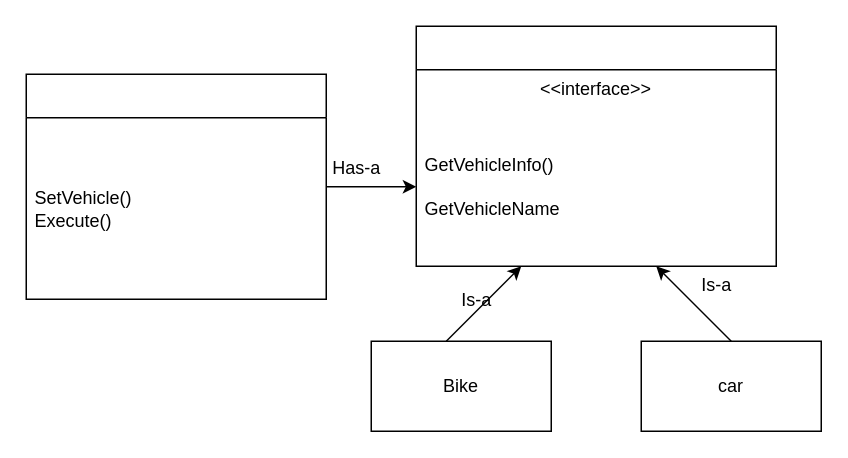
This 848x458 diagram has some shape labels left out. The shapes that lost their labels are listed below. From the top down, each one's box as (x1, y1, x2, y2) in pixels, then its label:
(415, 25, 776, 266): IVehicle
(25, 73, 326, 299): Context
